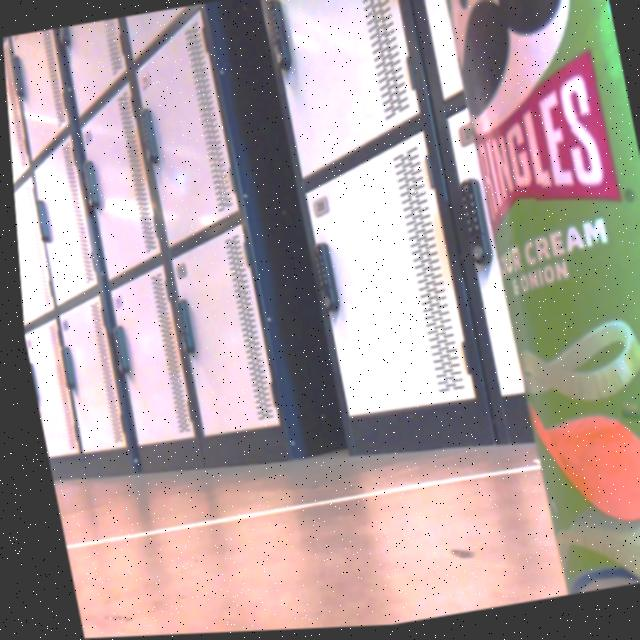greenpringles: (417, 0, 640, 606)
